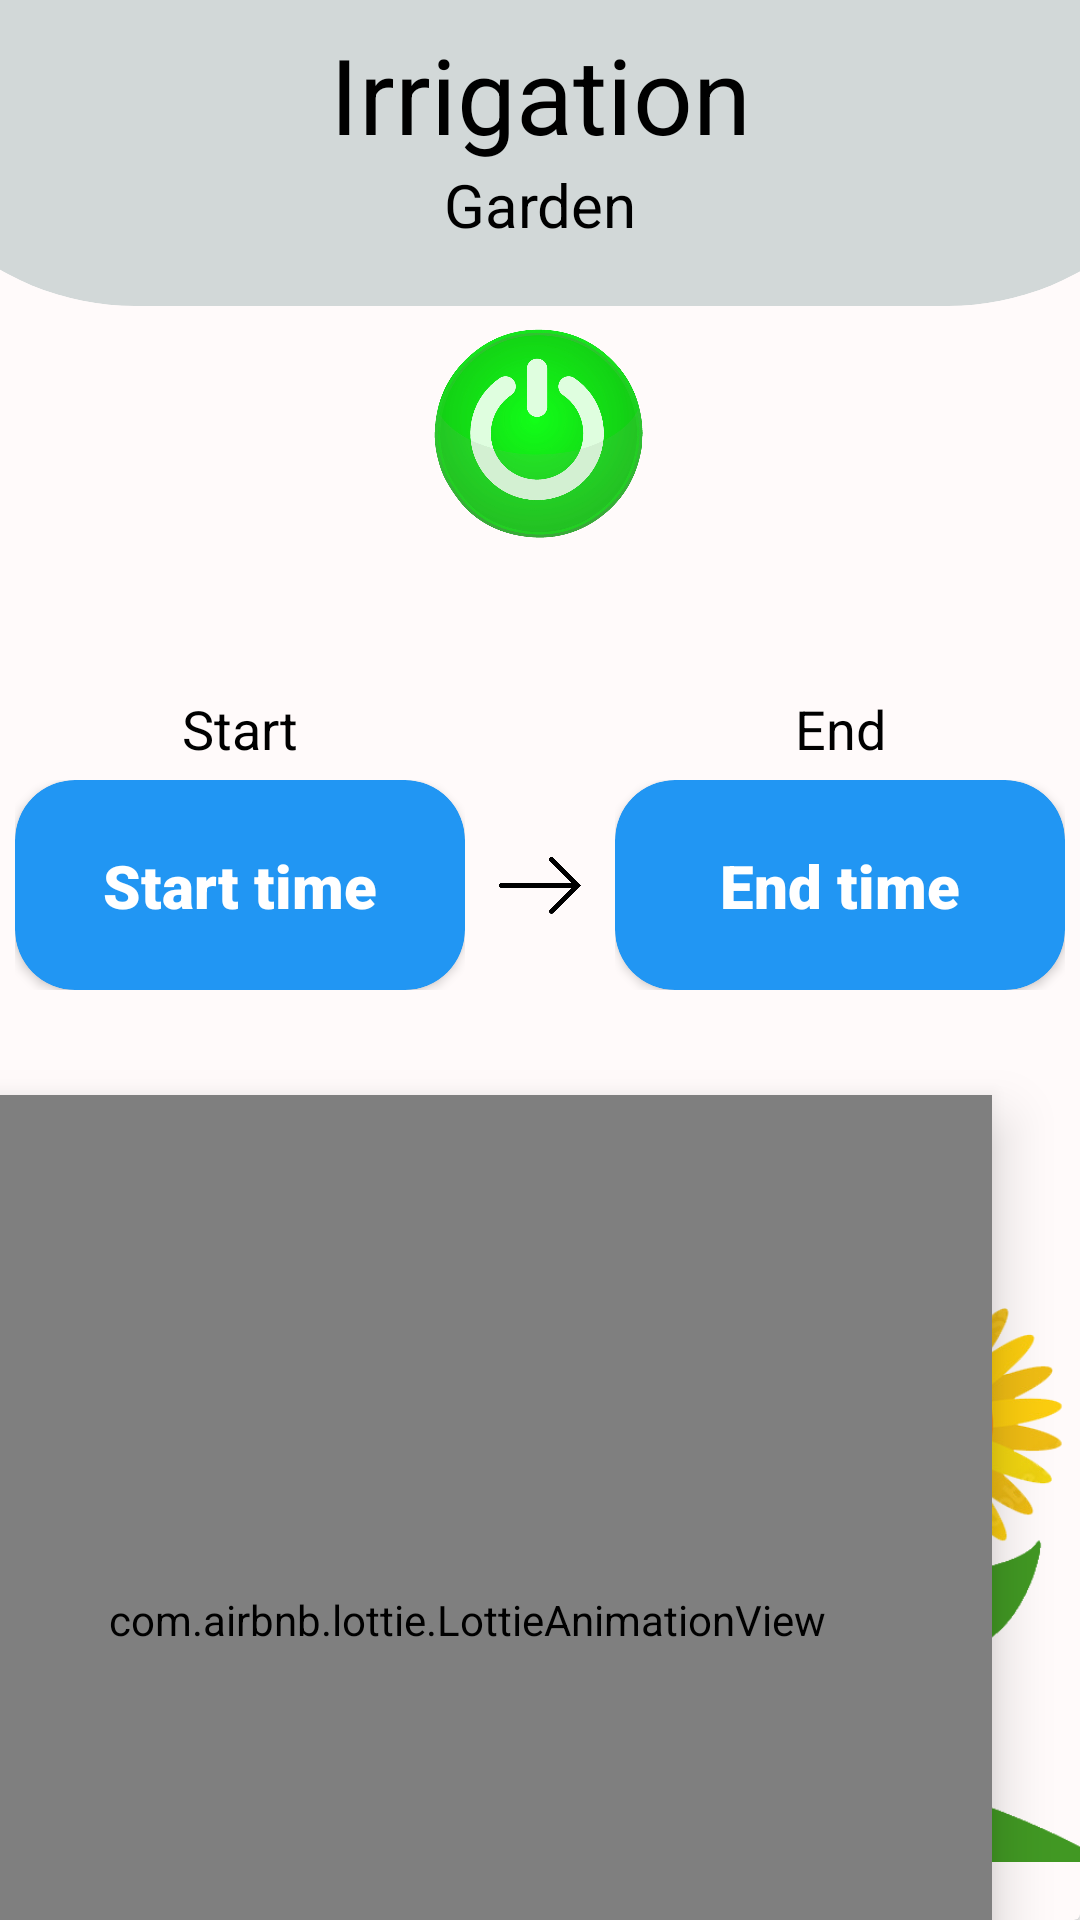

Named icons in this screenshot (1080px x 1920px) and their centers, (x,y):
arrow: (540,885)
on symbol: (538,433)
